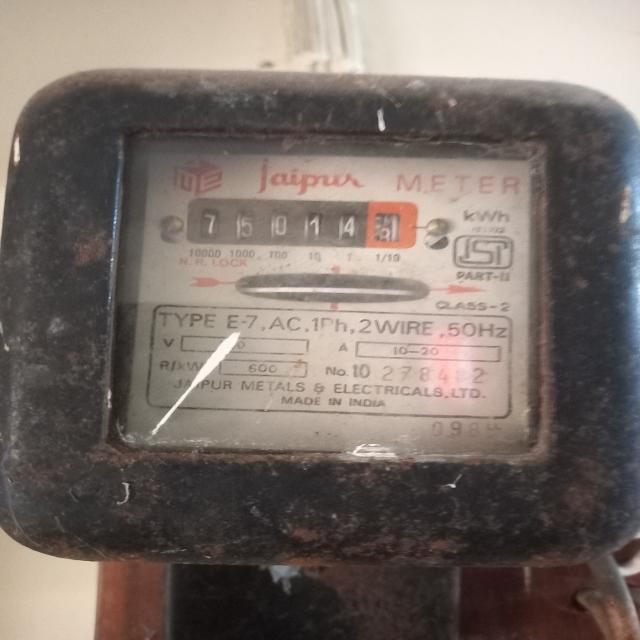display: (184, 191, 420, 249)
